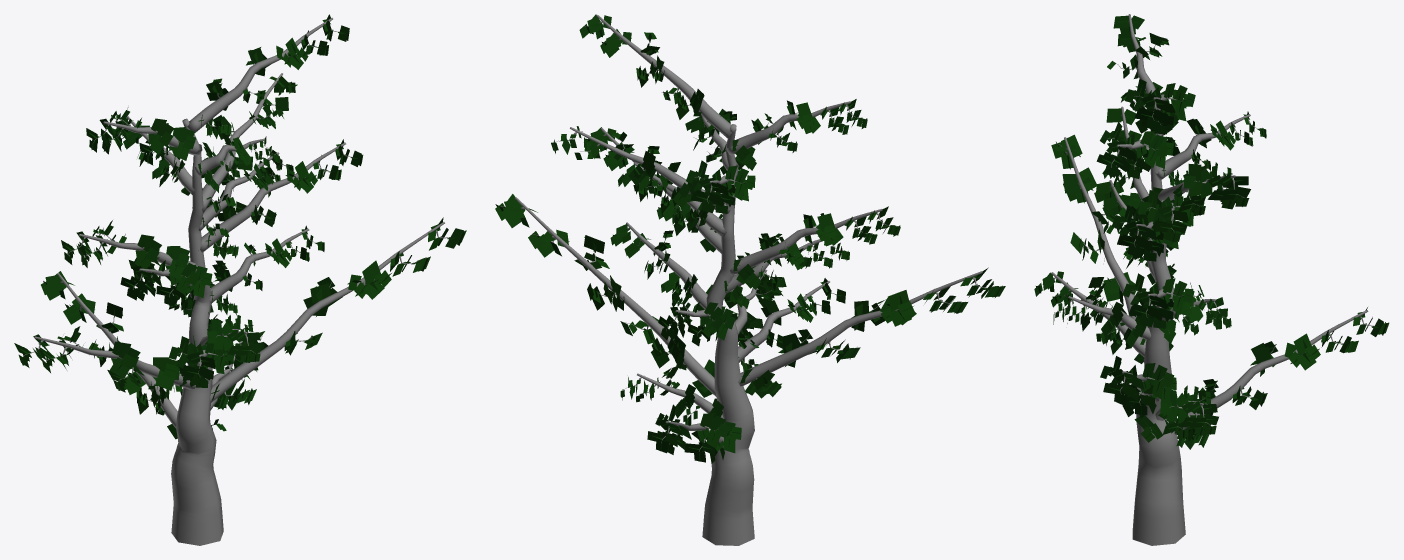
The model's file is Tree B.obj.
3 renders of one model, left to right at view 1: azimuth 30°, elevation 25°; view 2: azimuth 150°, elevation 25°; view 3: azimuth 270°, elevation 25°, orthographic. The views are drawn at different scales.
Parts seen in each view (by area): view 1: Leaves_1 Tree_b, Tree_b Trunk1; view 2: Leaves_1 Tree_b, Tree_b Trunk1; view 3: Leaves_1 Tree_b, Tree_b Trunk1.
Part boxes in pixels (<box>): Leaves_1 Tree_b: <box>14,14,466,439</box>; Tree_b Trunk1: <box>23,17,450,545</box>; Leaves_1 Tree_b: <box>495,14,1005,463</box>; Tree_b Trunk1: <box>499,15,996,545</box>; Leaves_1 Tree_b: <box>1034,15,1389,449</box>; Tree_b Trunk1: <box>1038,14,1385,545</box>.
Size of the model in its own units: 4.85 by 4.71 by 3.
